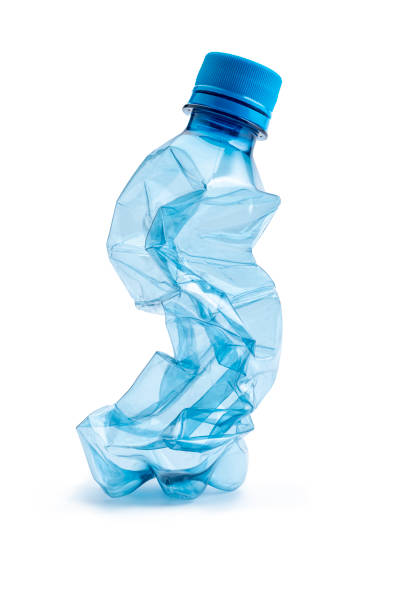plastic_bottle: (76, 49, 285, 506)
